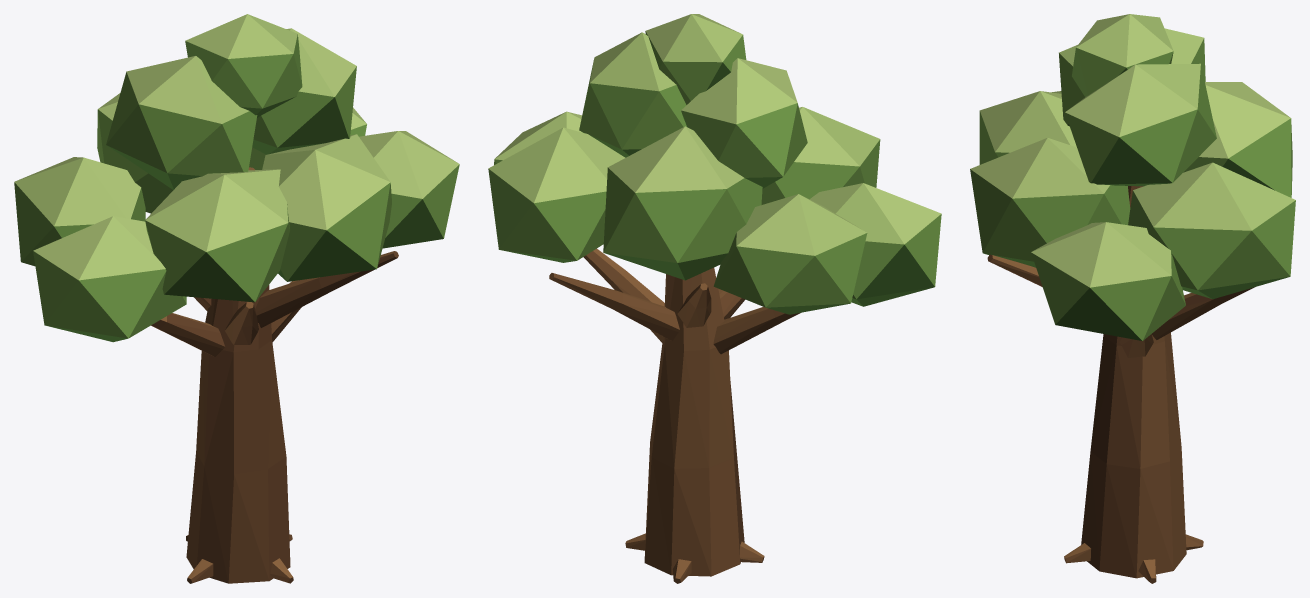
3 views of the same model, side by side, from view 1: azimuth 30°, elevation 25°; view 2: azimuth 150°, elevation 25°; view 3: azimuth 270°, elevation 25° (orthographic).
Visible parts, largest first — view 1: WK_Tree_Maple_MeadowRound_LOD0_High; view 2: WK_Tree_Maple_MeadowRound_LOD0_High; view 3: WK_Tree_Maple_MeadowRound_LOD0_High.
Part boxes in pixels (box(x1,y1,x2,y2)): WK_Tree_Maple_MeadowRound_LOD0_High: box(14, 14, 459, 583); WK_Tree_Maple_MeadowRound_LOD0_High: box(488, 14, 941, 583); WK_Tree_Maple_MeadowRound_LOD0_High: box(970, 14, 1295, 583).
Bounding box in the file's own units: 4.93 × 6.17 × 3.33.
